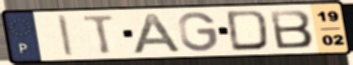A: (131, 12, 185, 55)
B: (267, 9, 316, 51)
D: (224, 8, 271, 52)
G: (177, 11, 220, 54)
I: (55, 13, 76, 58)
T: (81, 13, 118, 56)
